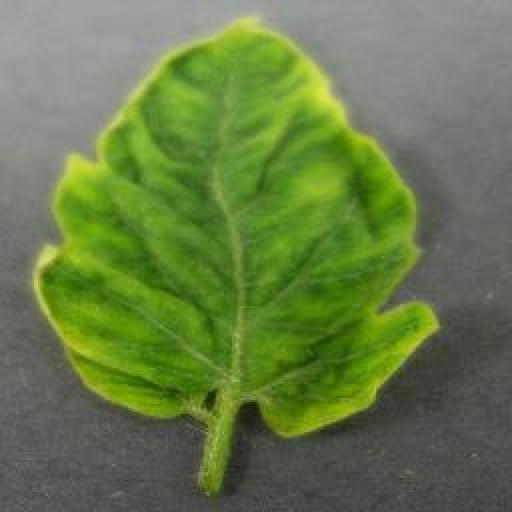disease_tomato: (30, 16, 444, 441)
